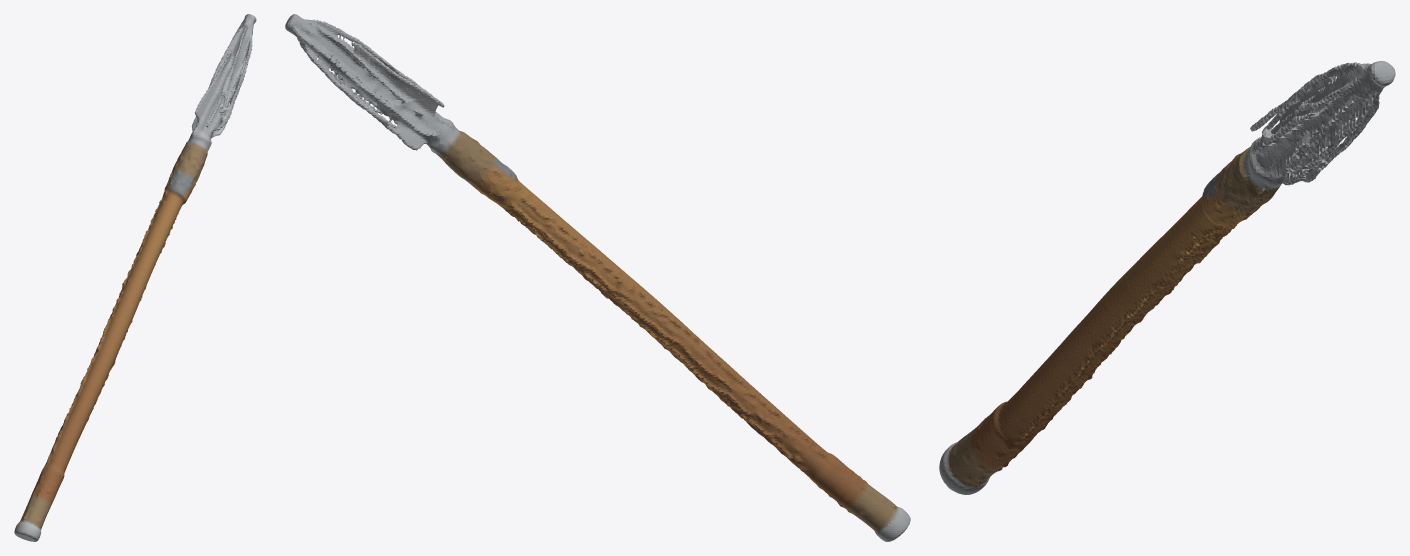
Rendered from lanca.glb.
3 views of the same model, side by side, from view 1: azimuth 30°, elevation 25°; view 2: azimuth 150°, elevation 25°; view 3: azimuth 270°, elevation 25° (orthographic). The views are drawn at different scales.
Parts seen in each view (by area): view 1: tmp3jubb50w.ply; view 2: tmp3jubb50w.ply; view 3: tmp3jubb50w.ply.
Part boxes in pixels (<box>): tmp3jubb50w.ply: <box>14,14,256,541</box>; tmp3jubb50w.ply: <box>285,14,910,541</box>; tmp3jubb50w.ply: <box>939,61,1395,494</box>.
Size of the model in its own units: 1.89 by 1.96 by 1.09.
